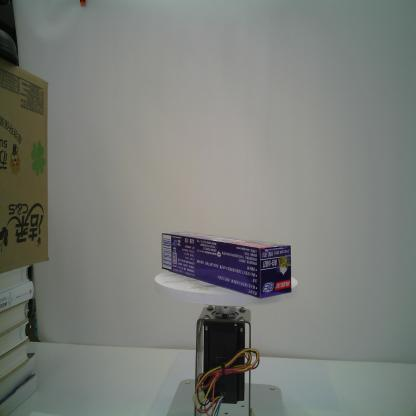Personal Hygiene: (160, 230, 293, 301)
